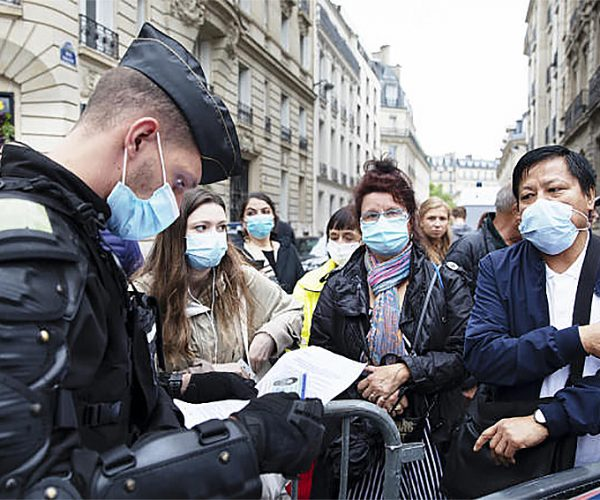with_mask: (112, 119, 189, 240), (520, 168, 582, 253), (185, 212, 230, 274), (359, 199, 409, 254), (243, 202, 275, 239)
